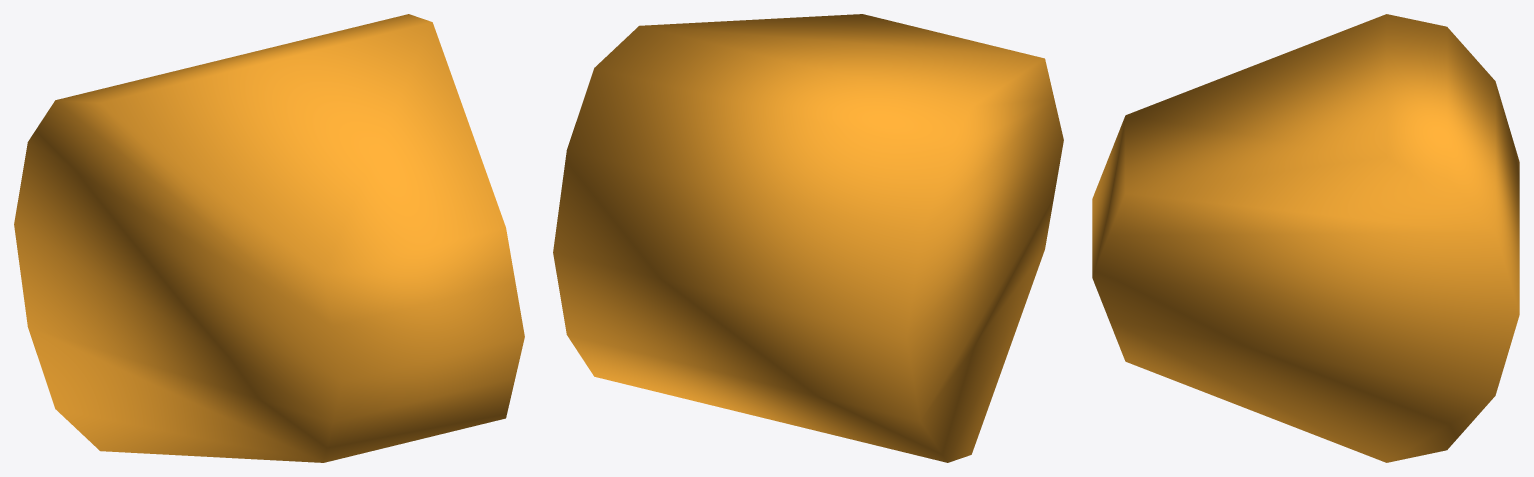
Rendered from proyectilBasico.fbx.
The picture shows the model from 3 angles, left to right: view 1: azimuth 30°, elevation 25°; view 2: azimuth 150°, elevation 25°; view 3: azimuth 270°, elevation 25°; orthographic projection. The views are drawn at different scales.
Visible parts, largest first — view 1: proyectilBasico; view 2: proyectilBasico; view 3: proyectilBasico.
Part boxes in pixels (x1=…): proyectilBasico: x1=14, y1=14, x2=524, y2=462; proyectilBasico: x1=553, y1=14, x2=1063, y2=462; proyectilBasico: x1=1092, y1=14, x2=1519, y2=462.
Size of the model in its own units: 14.89 by 14.01 by 17.73.
